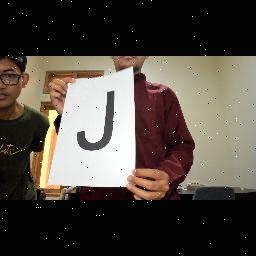j: (68, 88, 138, 160)
